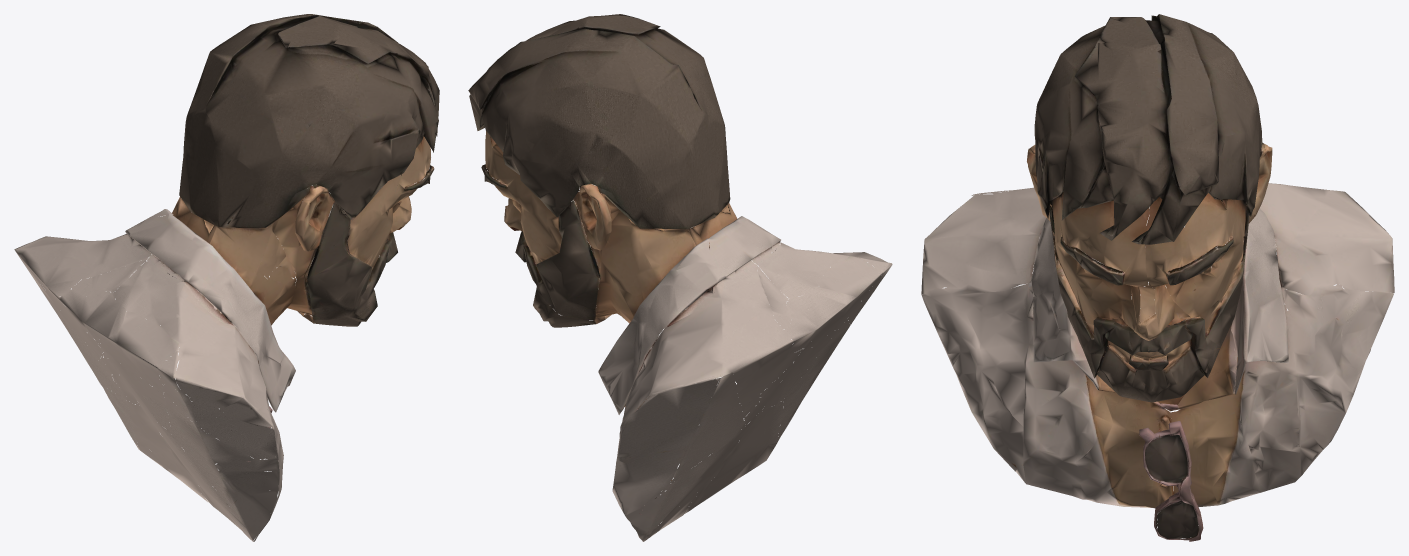
The model's file is paper-bust-glove.glb.
3 views of the same model, side by side, from view 1: azimuth 30°, elevation 25°; view 2: azimuth 150°, elevation 25°; view 3: azimuth 270°, elevation 25° (orthographic). The views are drawn at different scales.
Parts seen in each view (by area): view 1: tripo_part_0, tripo_part_8, tripo_part_4, tripo_part_9, tripo_part_6, tripo_part_17, tripo_part_3, tripo_part_7, tripo_part_16, tripo_part_22, tripo_part_32, tripo_part_24 (+11 smaller); view 2: tripo_part_0, tripo_part_6, tripo_part_3, tripo_part_1, tripo_part_5, tripo_part_14, tripo_part_10, tripo_part_17, tripo_part_21, tripo_part_8, tripo_part_20, tripo_part_4 (+7 smaller); view 3: tripo_part_0, tripo_part_2, tripo_part_1, tripo_part_6, tripo_part_8, tripo_part_7, tripo_part_10, tripo_part_5, tripo_part_4, tripo_part_12, tripo_part_3, tripo_part_9 (+11 smaller).
Boxes of the visible parts, bbox=[...] form: tripo_part_0: bbox=[179, 14, 439, 228]; tripo_part_8: bbox=[114, 261, 272, 427]; tripo_part_4: bbox=[129, 214, 295, 412]; tripo_part_9: bbox=[303, 202, 397, 326]; tripo_part_6: bbox=[14, 234, 151, 379]; tripo_part_17: bbox=[100, 353, 279, 541]; tripo_part_3: bbox=[172, 197, 304, 316]; tripo_part_7: bbox=[347, 136, 430, 272]; tripo_part_16: bbox=[96, 311, 179, 394]; tripo_part_22: bbox=[164, 397, 253, 516]; tripo_part_32: bbox=[188, 398, 277, 459]; tripo_part_24: bbox=[58, 289, 126, 341]; tripo_part_0: bbox=[468, 14, 730, 229]; tripo_part_6: bbox=[622, 260, 803, 423]; tripo_part_3: bbox=[523, 193, 737, 408]; tripo_part_1: bbox=[612, 377, 721, 541]; tripo_part_5: bbox=[598, 238, 725, 414]; tripo_part_14: bbox=[536, 200, 600, 320]; tripo_part_10: bbox=[485, 131, 561, 264]; tripo_part_17: bbox=[690, 363, 792, 510]; tripo_part_21: bbox=[670, 372, 745, 483]; tripo_part_8: bbox=[759, 242, 887, 298]; tripo_part_20: bbox=[640, 413, 759, 532]; tripo_part_4: bbox=[708, 216, 780, 276]; tripo_part_0: bbox=[1034, 14, 1262, 244]; tripo_part_2: bbox=[921, 282, 1173, 508]; tripo_part_1: bbox=[1171, 284, 1393, 507]; tripo_part_6: bbox=[1260, 183, 1394, 311]; tripo_part_8: bbox=[921, 187, 1046, 294]; tripo_part_7: bbox=[1050, 179, 1150, 334]; tripo_part_10: bbox=[1145, 199, 1246, 333]; tripo_part_5: bbox=[1231, 208, 1288, 394]; tripo_part_4: bbox=[1031, 218, 1099, 390]; tripo_part_12: bbox=[1097, 345, 1204, 402]; tripo_part_3: bbox=[1149, 267, 1238, 410]; tripo_part_9: bbox=[1049, 205, 1148, 378].
Size of the model in its own units: 0.748 by 0.9992 by 0.7868.
Materials: 51 (51 with a texture image).
